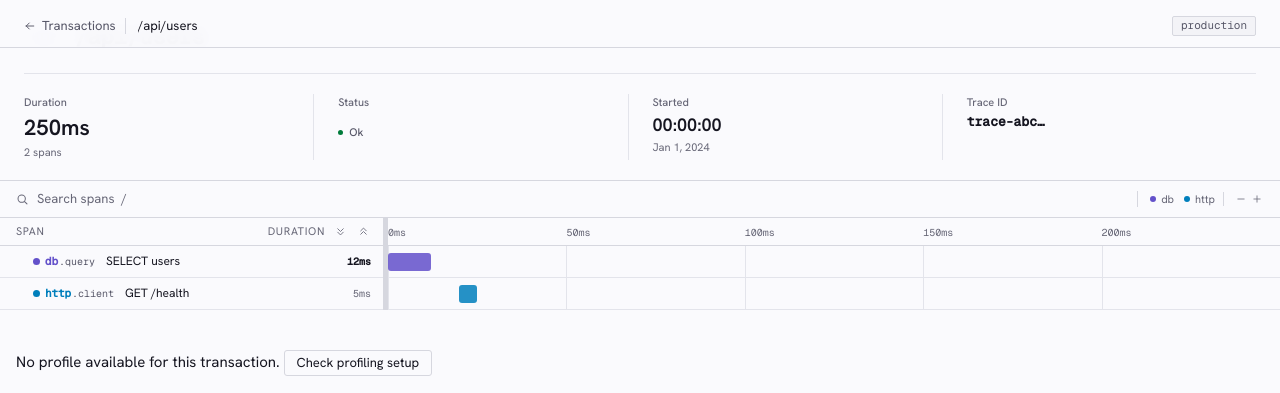
Test: TransactionDetailView › span search › shows match count when searching
Type "SELECT" into the field with placeholder "Search spans /". click: [583, 199]
box: [37,189,1129,209]
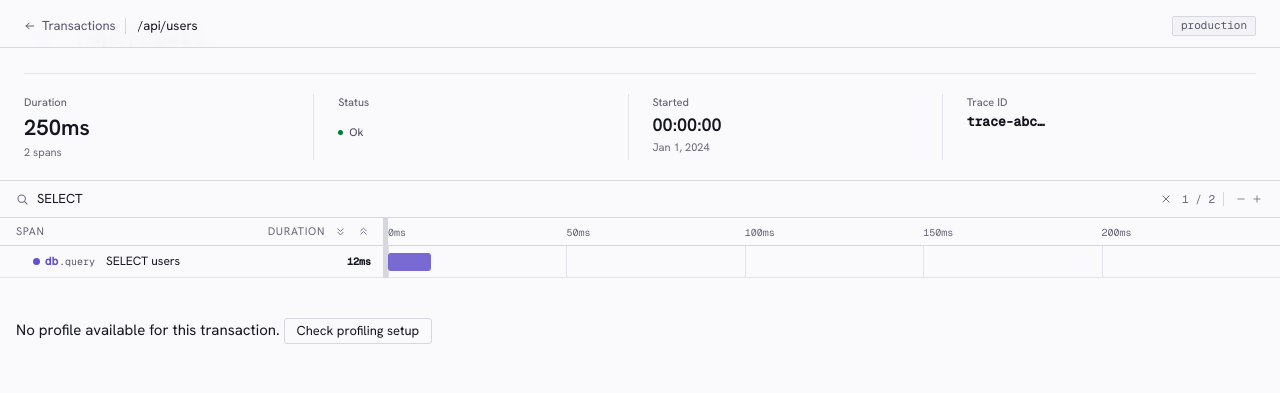
Now the text "1 / 2" is shown, box [1182,191,1215,207]
